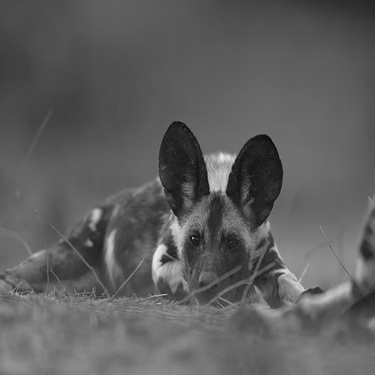dog: (2, 106, 315, 316), (224, 182, 372, 356)
